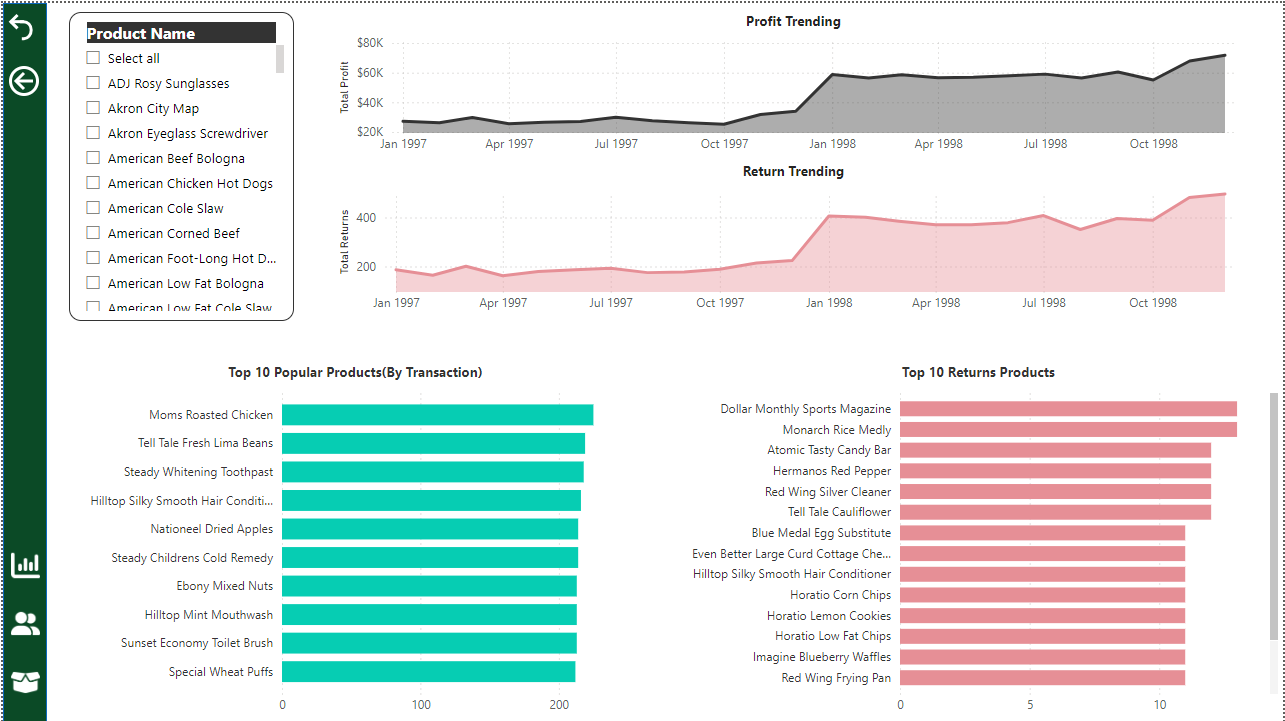

This screenshot's page, from the dashboard's own definition file:
{"tool":"powerbi","page":{"name":"Product Details","canvas":[1280,720],"ordinal":2},"visuals":[{"type":"actionButton","box":[4.1,542.2,36.7,40],"z":0,"group":"g1"},{"type":"slicer","fields":{"Values":["Products.product_name"]},"box":[65.6,8.9,225.6,308.9],"z":0},{"type":"actionButton","box":[4.1,600.5,36.7,40],"z":1000,"group":"g1"},{"type":"clusteredBarChart","title":"Top 10 Popular Products(By Transaction)","fields":{"Category":["Products.product_name"],"Y":["Measure Table.Total Transactions"]},"box":[65.6,360,574.4,360],"z":1000},{"type":"actionButton","box":[4.1,658.9,36.7,40],"z":2000,"group":"g1"},{"type":"clusteredBarChart","title":"Top 10 Returns Products","fields":{"Category":["Products.product_name"],"Y":["Measure Table.Total Returns"]},"box":[672.2,360,607.8,360],"z":2000},{"type":"areaChart","title":"Profit Trending","fields":{"Category":["Calendar.date.Variation.Date Hierarchy.Year","Calendar.date.Variation.Date Hierarchy.Quarter","Calendar.date.Variation.Date Hierarchy.Month"],"Y":["Measure Table.Total Profit"]},"box":[331.1,8.9,920,150],"z":3000},{"type":"areaChart","title":"Return Trending","fields":{"Category":["Calendar.date.Variation.Date Hierarchy.Year","Calendar.date.Variation.Date Hierarchy.Quarter","Calendar.date.Variation.Date Hierarchy.Month"],"Y":["Measure Table.Total Returns"]},"box":[331.1,158.9,920,158.9],"z":4000},{"type":"shape","box":[0,0,44.4,720],"z":5000},{"type":"actionButton","box":[0,5.6,41.1,36.7],"z":7000},{"type":"actionButton","box":[0.6,57.8,40,40],"z":8000},{"type":"group","id":"g1","title":"Navigation Button","box":[4.1,542.2,36.7,156.7],"z":8001}]}

Visuals, with their boxes on the page's 1280x720 design canvas (x1, y1, x2, y2). These are canvas units, not pixel positions in the 1285x721 screenshot, which may show the page scaled, cropped or inside an application window:
actionButton: (4, 542, 41, 582)
slicer - Products.product_name: (66, 9, 291, 318)
actionButton: (4, 600, 41, 640)
"Top 10 Popular Products(By Transaction)" clusteredBarChart: (66, 360, 640, 720)
actionButton: (4, 659, 41, 699)
"Top 10 Returns Products" clusteredBarChart: (672, 360, 1280, 720)
"Profit Trending" areaChart: (331, 9, 1251, 159)
"Return Trending" areaChart: (331, 159, 1251, 318)
shape: (0, 0, 44, 720)
actionButton: (0, 6, 41, 42)
actionButton: (1, 58, 41, 98)
"Navigation Button" group: (4, 542, 41, 699)
